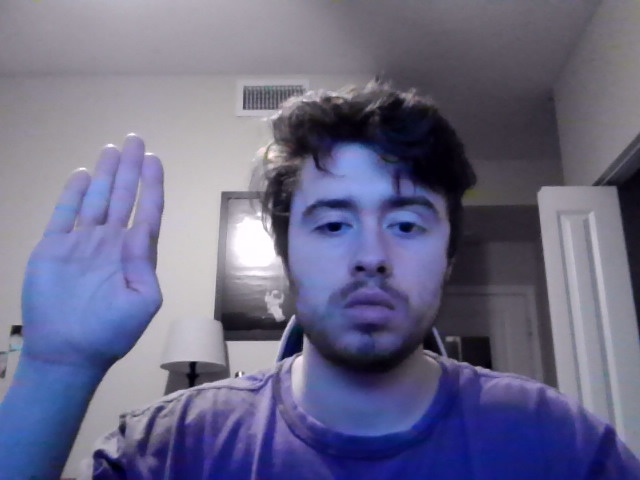b: (21, 132, 165, 375)
